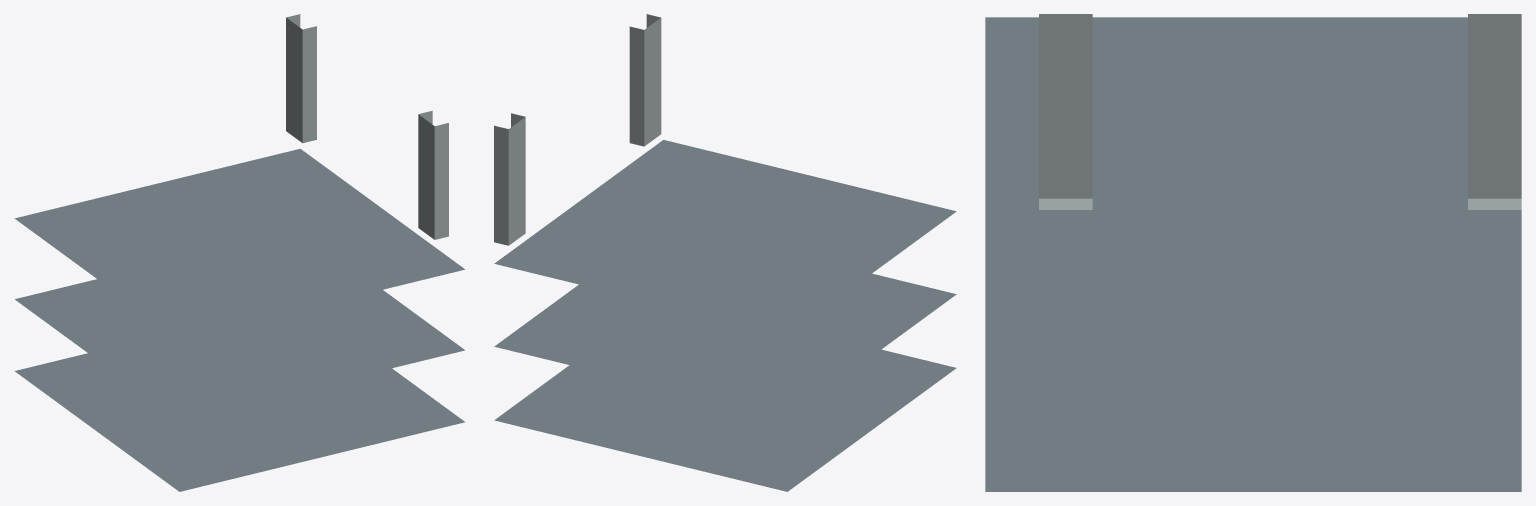
File: cell_18.obj
3 renders of one model, left to right at view 1: azimuth 30°, elevation 25°; view 2: azimuth 150°, elevation 25°; view 3: azimuth 270°, elevation 25°, orthographic. The views are drawn at different scales.
Bounding box in the file's own units: 1 × 0.96 × 1.
